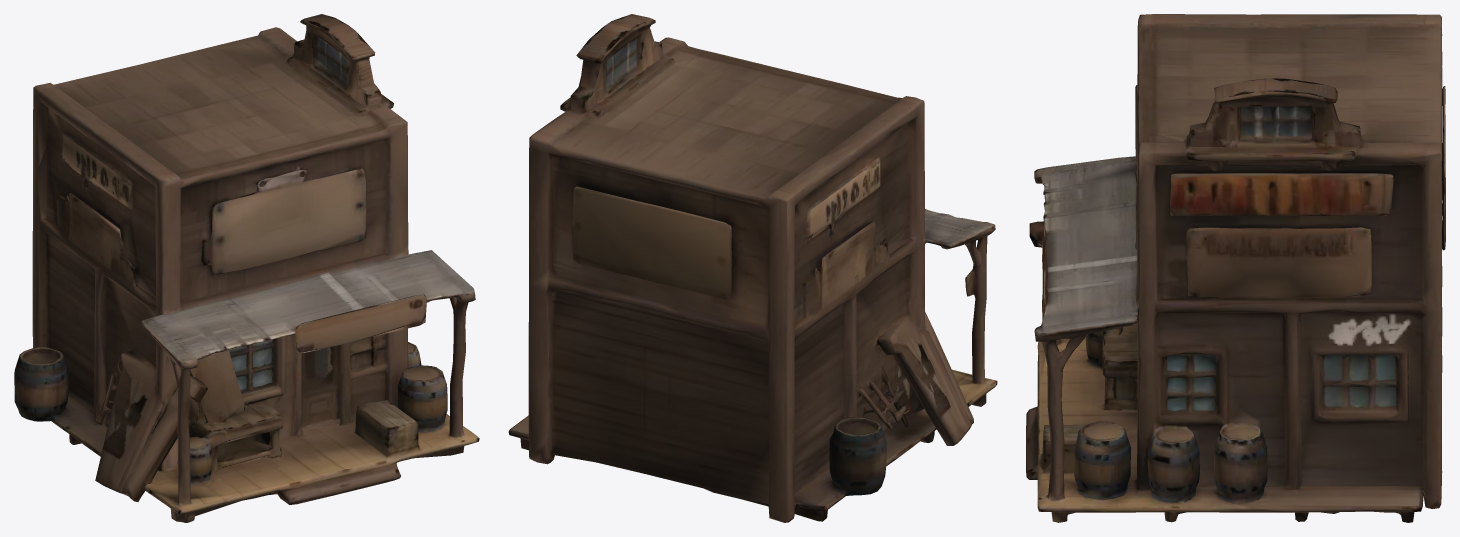
Rendered from supply.glb.
3 views of the same model, side by side, from view 1: azimuth 30°, elevation 25°; view 2: azimuth 150°, elevation 25°; view 3: azimuth 270°, elevation 25° (orthographic). The views are drawn at different scales.
Bounding box in the file's own units: 0.9427 × 1 × 0.9022.
1 material, 1 textured.
